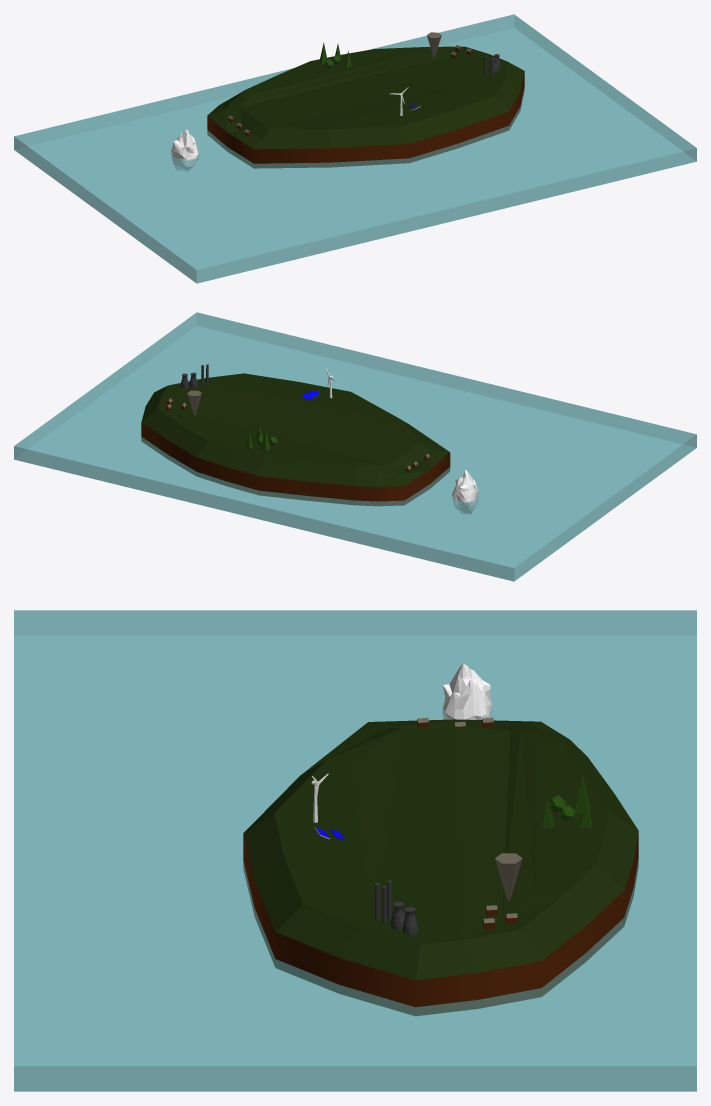
File: newislandex4d.dae
3 renders of one model, top to bottom at view 1: azimuth 30°, elevation 25°; view 2: azimuth 150°, elevation 25°; view 3: azimuth 270°, elevation 25°, orthographic. The views are drawn at different scales.
Parts seen in each view (by area): view 1: water, island, iceburg; view 2: water, island, iceburg; view 3: water, island, iceburg, tornado.
Part boxes in pixels (box(x1,y1,x2,y2)): water: box(14, 14, 696, 283); island: box(207, 46, 524, 168); iceburg: box(170, 129, 198, 171); water: box(14, 312, 696, 581); island: box(141, 373, 450, 506); iceburg: box(452, 469, 478, 513); water: box(14, 610, 696, 1091); island: box(243, 719, 638, 1016); iceburg: box(442, 663, 492, 719); tornado: box(495, 853, 522, 900).
Bounding box in the file's own units: 77.56 × 10.62 × 49.1.
